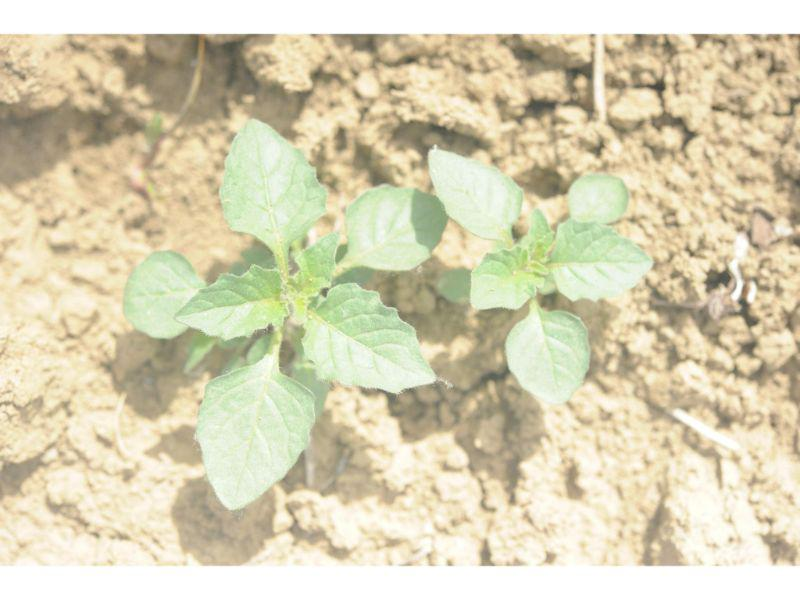nightshade: (123, 117, 446, 510), (429, 146, 651, 405)
